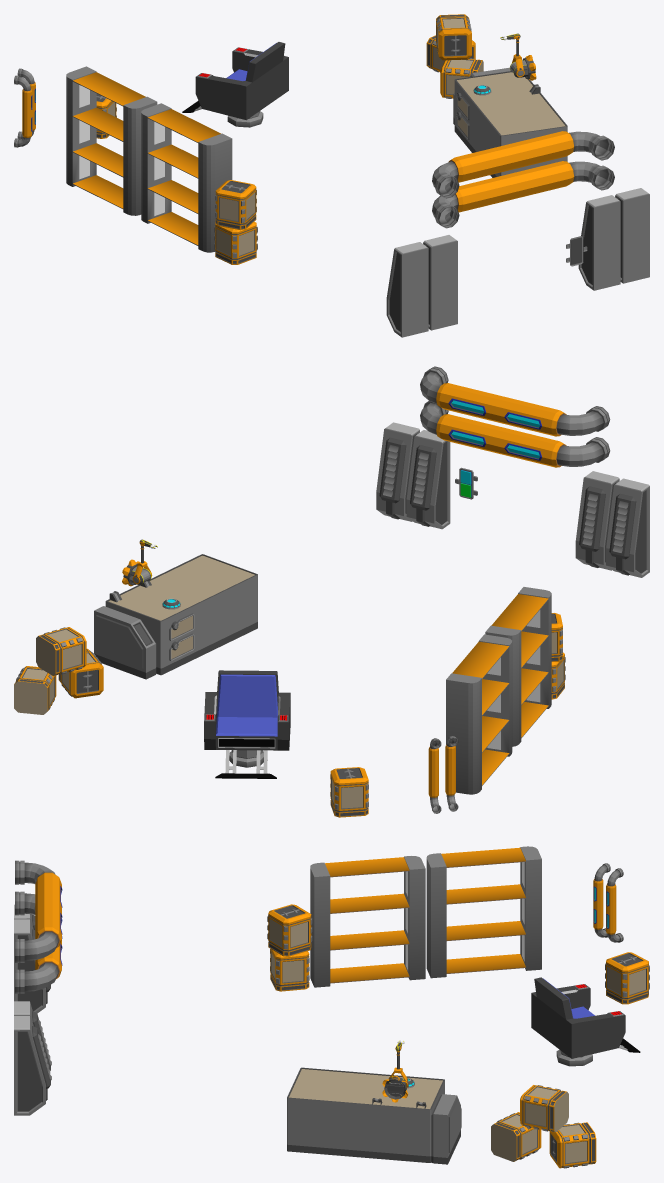
File: InteriorSpaceship.fbx
The picture shows the model from 3 angles, top to bottom: view 1: azimuth 30°, elevation 25°; view 2: azimuth 150°, elevation 25°; view 3: azimuth 270°, elevation 25°; orthographic projection. The views are drawn at different scales.
Visible parts, largest first — view 1: Shelf01, Shelf02, Workbench00, CaptainSeat00, Pipe02, Pipe03, WallPanel04, WallPanel03, WallPanel02, WallPanel05, Crate03, Crate06 (+4 smaller); view 2: Workbench00, Shelf02, CaptainSeat00, Shelf01, Pipe02, Pipe03, WallPanel04, WallPanel03, WallPanel05, WallPanel02, Crate06, Crate01 (+4 smaller); view 3: Workbench00, Shelf02, Shelf01, CaptainSeat00, Pipe02, WallPanel02, Crate03, Crate01, Crate06, Crate04, Pipe03, Crate05 (+5 smaller).
Boxes of the visible parts, bbox=[...] form: Shelf01: bbox=[141, 103, 232, 252]; Shelf02: bbox=[66, 66, 157, 215]; Workbench00: bbox=[453, 67, 567, 177]; CaptainSeat00: bbox=[182, 42, 288, 127]; Pipe02: bbox=[432, 131, 614, 198]; Pipe03: bbox=[432, 161, 614, 228]; WallPanel04: bbox=[386, 242, 428, 337]; WallPanel03: bbox=[578, 195, 620, 290]; WallPanel02: bbox=[615, 188, 649, 283]; WallPanel05: bbox=[423, 235, 457, 330]; Crate03: bbox=[215, 180, 256, 230]; Crate06: bbox=[436, 14, 471, 60]; Workbench00: bbox=[94, 554, 257, 679]; Shelf02: bbox=[446, 634, 512, 794]; CaptainSeat00: bbox=[204, 670, 290, 778]; Shelf01: bbox=[485, 587, 551, 746]; Pipe02: bbox=[420, 366, 610, 436]; Pipe03: bbox=[420, 400, 610, 467]; WallPanel04: bbox=[606, 478, 649, 577]; WallPanel03: bbox=[406, 430, 450, 529]; WallPanel05: bbox=[575, 471, 619, 570]; WallPanel02: bbox=[376, 422, 419, 521]; Crate06: bbox=[36, 627, 86, 675]; Crate01: bbox=[330, 767, 368, 817]; Workbench00: bbox=[287, 1067, 461, 1164]; Shelf02: bbox=[426, 846, 541, 978]; Shelf01: bbox=[310, 856, 425, 987]; CaptainSeat00: bbox=[531, 977, 640, 1066]; Pipe02: bbox=[15, 860, 62, 962]; WallPanel02: bbox=[14, 1016, 51, 1115]; Crate03: bbox=[267, 904, 312, 956]; Crate01: bbox=[605, 952, 649, 1004]; Crate06: bbox=[520, 1085, 568, 1132]; Crate04: bbox=[549, 1122, 596, 1168]; Pipe03: bbox=[15, 891, 62, 993]; Crate05: bbox=[491, 1112, 541, 1161].
Bounding box in the file's own units: 15.06 × 5.2 × 18.26.
